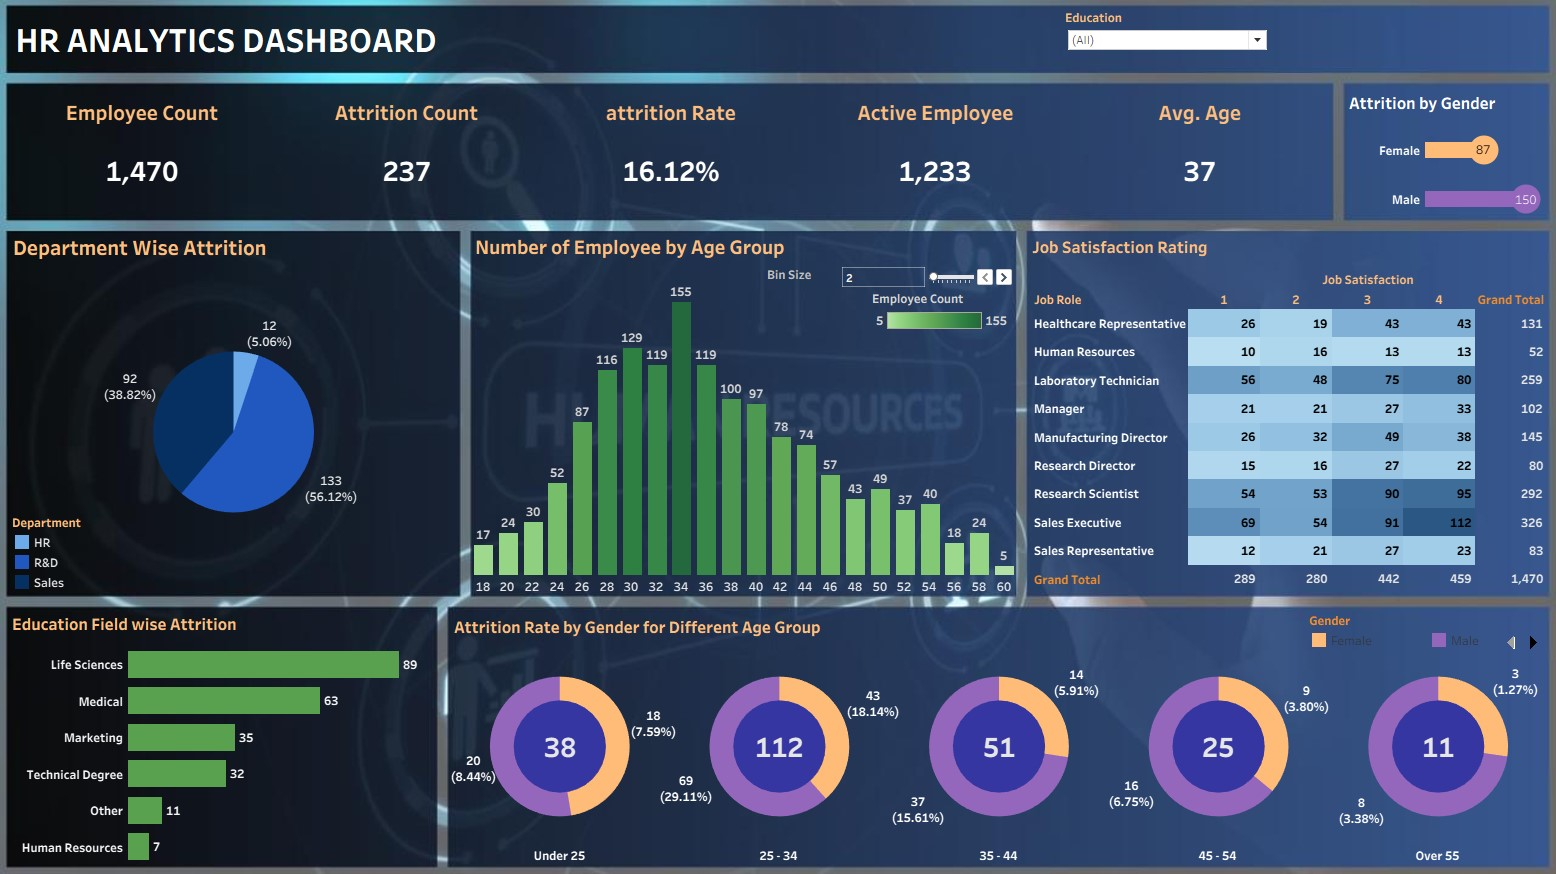

What the dashboard file says about the page in this screenshot:
{"tool":"tableau","page":{"name":"HR Analytics Dashboard (2)","canvas":[1580,900],"ordinal":0},"visuals":[{"type":"image","param":"C:/Users/admin/Desktop/pradip/Tableau Hr Dashboard/HR background.pptx.jpg","box":[8,8,1564,884]},{"type":"text","box":[25,21,443,63]},{"type":"filter","title":"Department Wise Attrition","param":"[federated.0urjy491fv5r2n115legu1ym4di0].[none:Education:nk]","box":[1077,22,205,62]},{"type":"worksheet","title":"KPi","mark":"Automatic","box":[22,98,1322,132]},{"type":"worksheet","title":"Attrition by Gender","mark":"Automatic","rows":["Gender"],"cols":["Calculation_0354649299406848","Calculation_0354649299406848"],"box":[1357,101,201,136]},{"type":"worksheet","title":"Department Wise Attrition","mark":"Pie","box":[21,242,449,364]},{"type":"worksheet","title":"Number of Employee by Age Group","mark":"Automatic","rows":["Employee Count"],"cols":["Age (bin)"],"box":[483,242,546,367]},{"type":"worksheet","title":"Job Satisfaction Rating","mark":"Square","rows":["Job Role"],"cols":["Job Satisfaction"],"box":[1040,245,519,361]},{"type":"parameter","param":"[Parameters].[Parameter 1]","box":[779,277,248,31]},{"type":"legend","title":"Number of Employee by Age Group","param":"[federated.0urjy491fv5r2n115legu1ym4di0].[sum:Employee Count:qk]","box":[884,303,140,53]},{"type":"legend","title":"Department Wise Attrition","param":"[federated.0urjy491fv5r2n115legu1ym4di0].[none:Department:nk]","box":[24,527,140,78]},{"type":"worksheet","title":"Education Field wise Attrition","mark":"Automatic","rows":["Education Field"],"cols":["Calculation_0354649299406848"],"box":[20,622,428,256]},{"type":"worksheet","title":"Attrition Rate by Gender for Different Age Group ","mark":"Pie","rows":["Calculation_0354649322299397","Calculation_0354649322299397"],"cols":["CF_age band"],"box":[462,625,1098,253]},{"type":"legend","title":"Attrition by Gender","param":"[federated.0urjy491fv5r2n115legu1ym4di0].[none:Gender:nk]","box":[1321,625,237,42]}]}

Visuals, with their boxes in screenshot pixels (x1, y1, x2, y2), scaled from the page's 1580x900 canvas onto the 1556x874 screenshot:
image: bbox=(8, 8, 1548, 866)
text: bbox=(25, 20, 461, 82)
"Department Wise Attrition" filter: bbox=(1061, 21, 1263, 82)
"KPi" worksheet: bbox=(22, 95, 1324, 223)
"Attrition by Gender" worksheet: bbox=(1336, 98, 1534, 230)
"Department Wise Attrition" worksheet (Pie marks): bbox=(21, 235, 463, 588)
"Number of Employee by Age Group" worksheet: bbox=(476, 235, 1013, 591)
"Job Satisfaction Rating" worksheet (Square marks): bbox=(1024, 238, 1535, 588)
parameter: bbox=(767, 269, 1011, 299)
"Number of Employee by Age Group" legend: bbox=(871, 294, 1008, 346)
"Department Wise Attrition" legend: bbox=(24, 512, 162, 588)
"Education Field wise Attrition" worksheet: bbox=(20, 604, 441, 853)
"Attrition Rate by Gender for Different Age Group " worksheet (Pie marks): bbox=(455, 607, 1536, 853)
"Attrition by Gender" legend: bbox=(1301, 607, 1534, 648)
